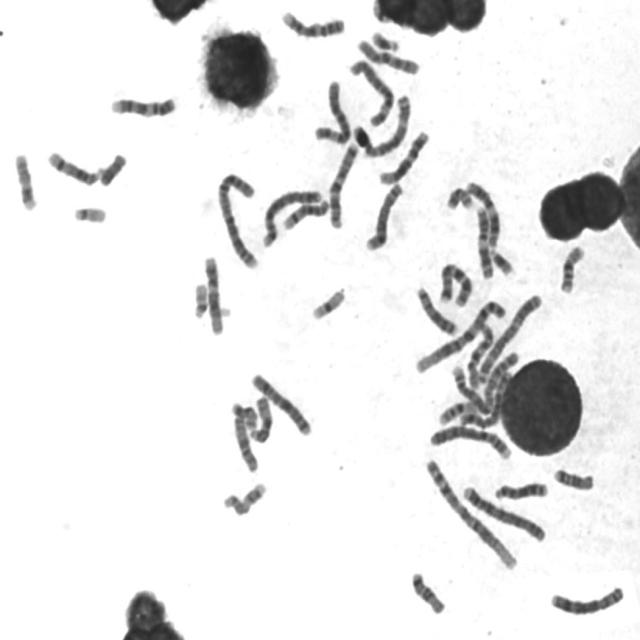A1: (422, 454, 520, 573), (412, 296, 509, 376)
A2: (452, 347, 522, 428), (214, 168, 261, 270)
A3: (470, 290, 544, 388), (352, 90, 412, 160)
B4: (459, 482, 548, 545), (427, 422, 514, 462)
B5: (258, 186, 325, 250), (458, 369, 514, 432)
C10: (353, 35, 421, 77), (464, 319, 496, 391)
C11: (462, 177, 502, 248), (473, 202, 495, 280)
C12: (376, 126, 430, 187), (201, 252, 226, 337)
C6: (346, 55, 396, 128), (310, 76, 352, 146)
C7: (326, 138, 361, 231), (436, 258, 474, 308)
C8: (362, 179, 405, 253), (546, 582, 626, 618)
C9: (278, 6, 346, 40), (106, 92, 178, 119)
D13: (414, 283, 459, 338), (491, 478, 550, 502)
D14: (43, 148, 101, 187), (280, 196, 332, 232)
D15: (228, 414, 260, 474), (245, 392, 274, 444)
E16: (556, 242, 587, 296), (436, 397, 479, 426)
E17: (220, 478, 268, 518), (11, 150, 38, 212)
E18: (407, 568, 447, 616), (550, 465, 596, 492)
F19: (308, 284, 346, 322), (370, 0, 392, 26)
F20: (230, 401, 258, 432), (444, 186, 474, 212)
G21: (487, 245, 516, 278), (368, 27, 402, 53)
G22: (70, 202, 108, 225), (190, 278, 210, 321)
X: (248, 369, 314, 438)
Y: (96, 149, 127, 188)
